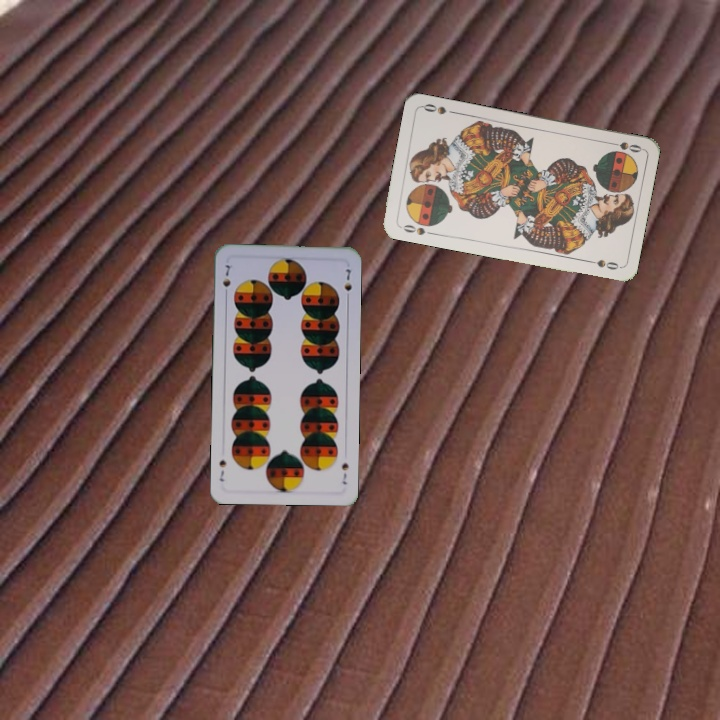S7: (219, 261, 233, 299), (338, 459, 351, 487)
SO: (604, 137, 644, 155), (396, 220, 436, 238)
